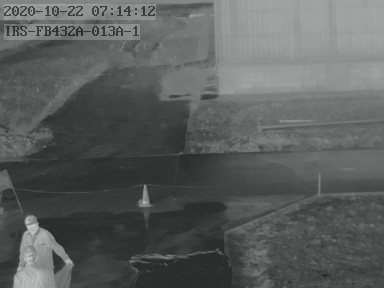person: (12, 213, 71, 287)
